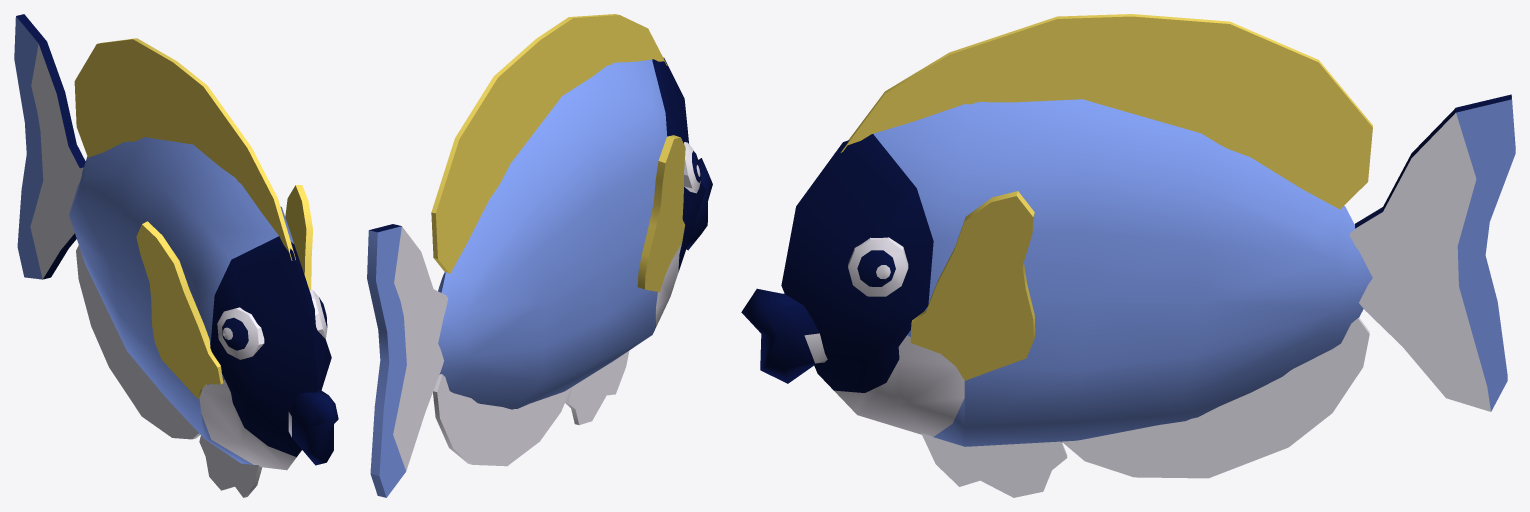
3 views of the same model, side by side, from view 1: azimuth 30°, elevation 25°; view 2: azimuth 150°, elevation 25°; view 3: azimuth 270°, elevation 25° (orthographic). The views are drawn at different scales.
Visible parts, largest first — view 1: Fish_SurgeonFish; view 2: Fish_SurgeonFish; view 3: Fish_SurgeonFish.
Part boxes in pixels (left/top/right/bottom): Fish_SurgeonFish: left=14, top=14, right=338, bottom=497; Fish_SurgeonFish: left=367, top=14, right=712, bottom=497; Fish_SurgeonFish: left=741, top=14, right=1515, bottom=497.
Bounding box in the file's own units: 9.24 × 21.64 × 31.54.
